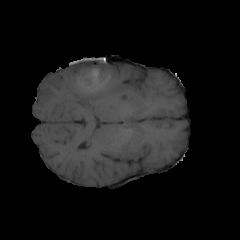glioma: (64, 60, 122, 101)
